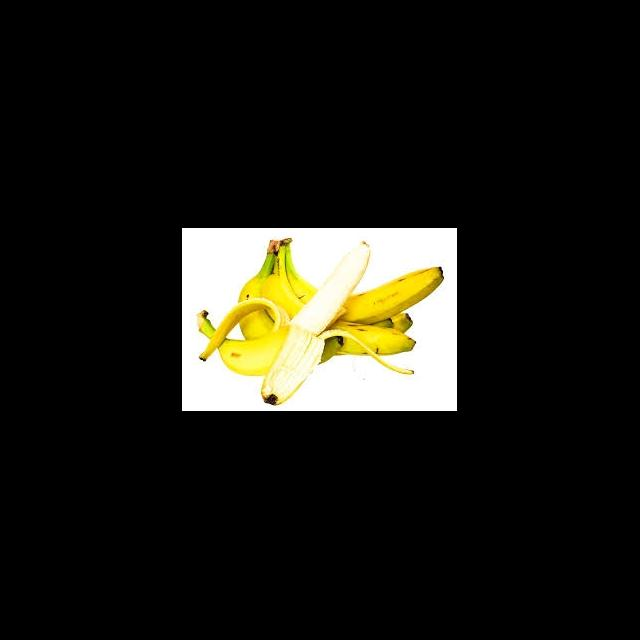food_waste: (186, 233, 372, 400), (224, 235, 446, 356)
